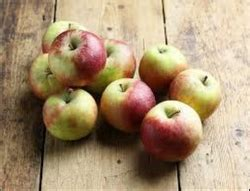apple: (139, 98, 203, 164), (46, 27, 107, 84), (40, 87, 100, 142), (101, 76, 156, 136), (167, 67, 220, 116), (138, 42, 190, 90)
